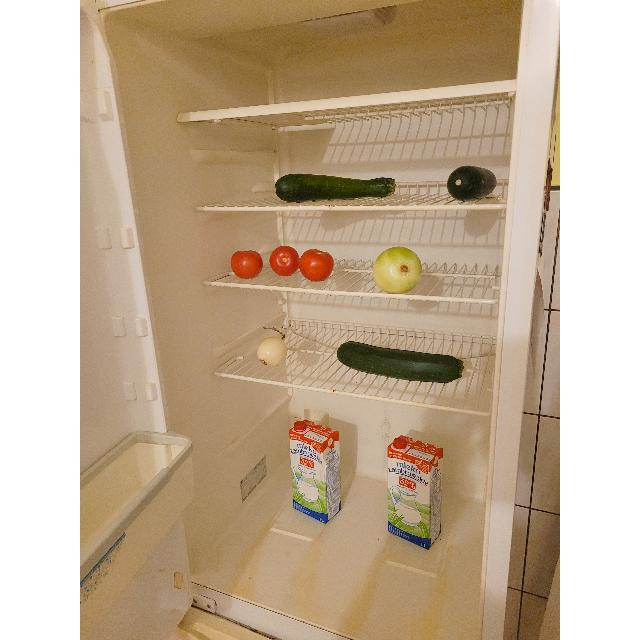milk: (386, 431, 442, 552), (290, 416, 340, 524)
onion: (373, 246, 423, 294), (256, 336, 288, 366)
tomato: (299, 248, 335, 282), (230, 249, 262, 279), (268, 246, 300, 276)
zucchini: (338, 341, 464, 384), (275, 172, 393, 202), (445, 165, 497, 202)
